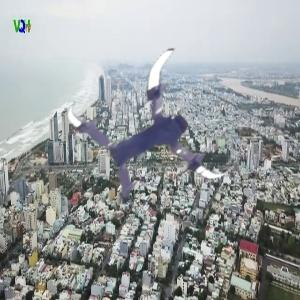drone: (82, 53, 241, 212)
